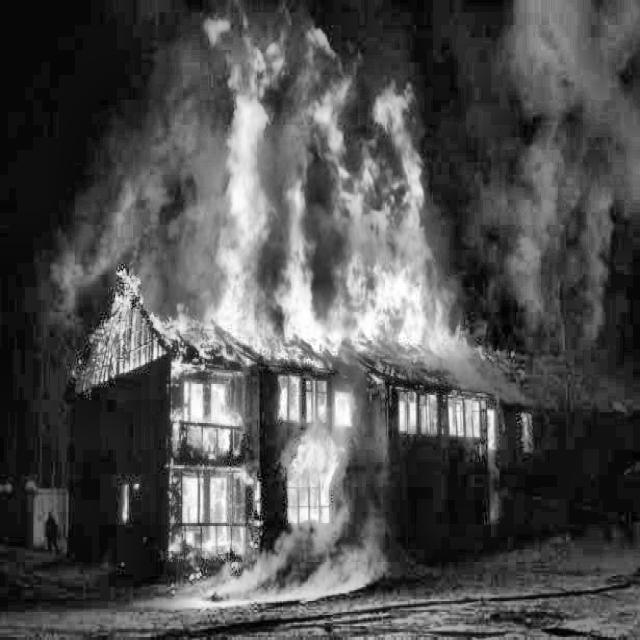fire: (108, 65, 532, 582)
